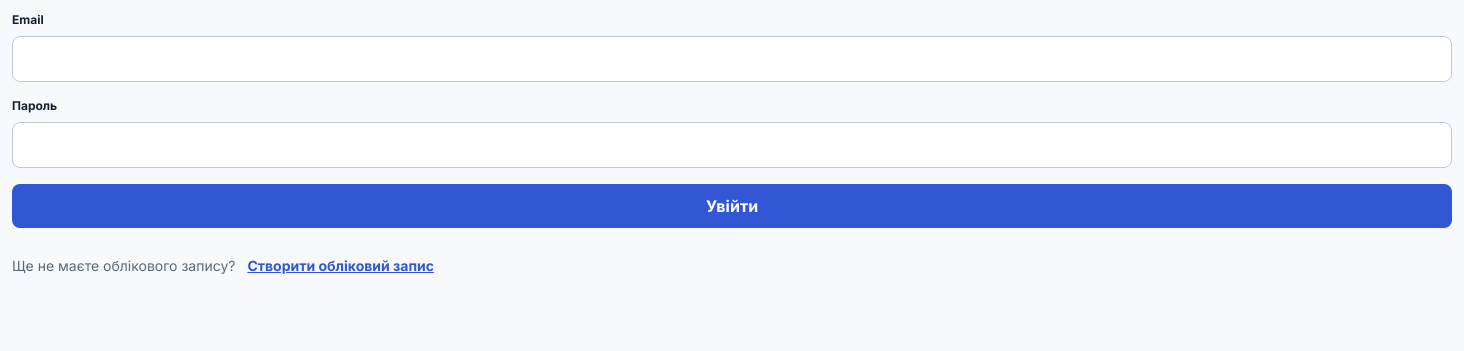
it: LoginForm › shows one generic message and keeps the email for invalid credentials
The width and height of the screenshot is (1464, 351).
Type "olena@example.com" into the field labelled "Email".
click(732, 59); type("olena@example.com")  # box [12,36,1452,82]
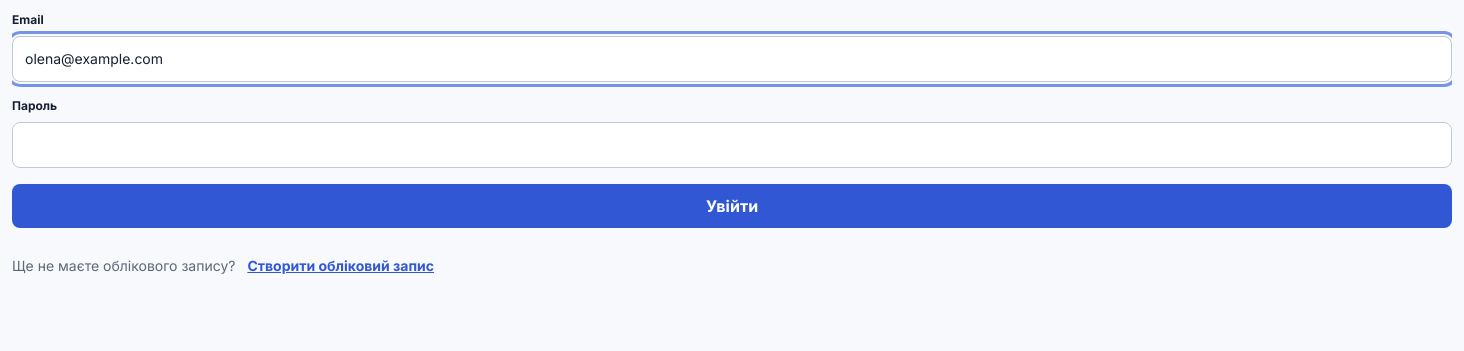
Type "wrong-password" into the password field labelled "Пароль".
click(732, 145); type("wrong-password")  # box [12,122,1452,168]
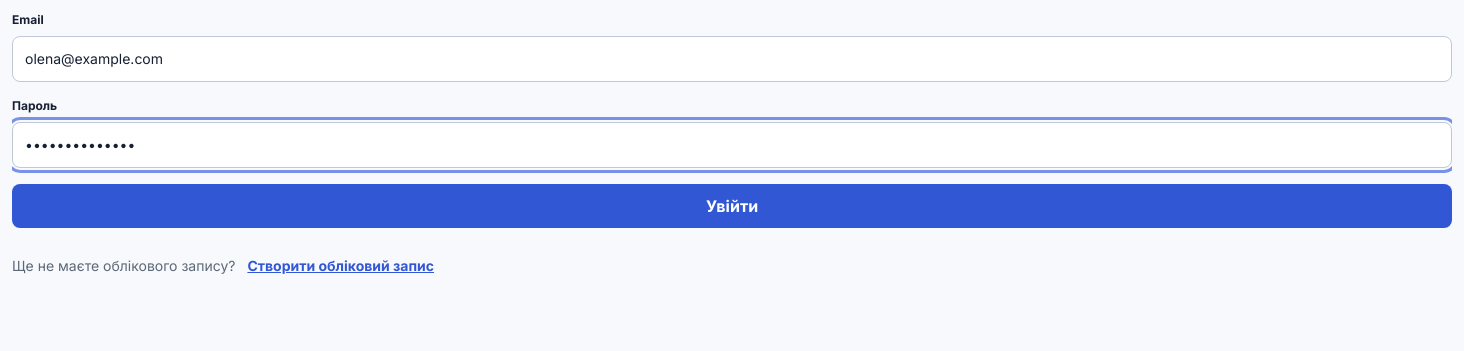
Click the button "Увійти".
click(732, 206)  # box [12,184,1452,228]
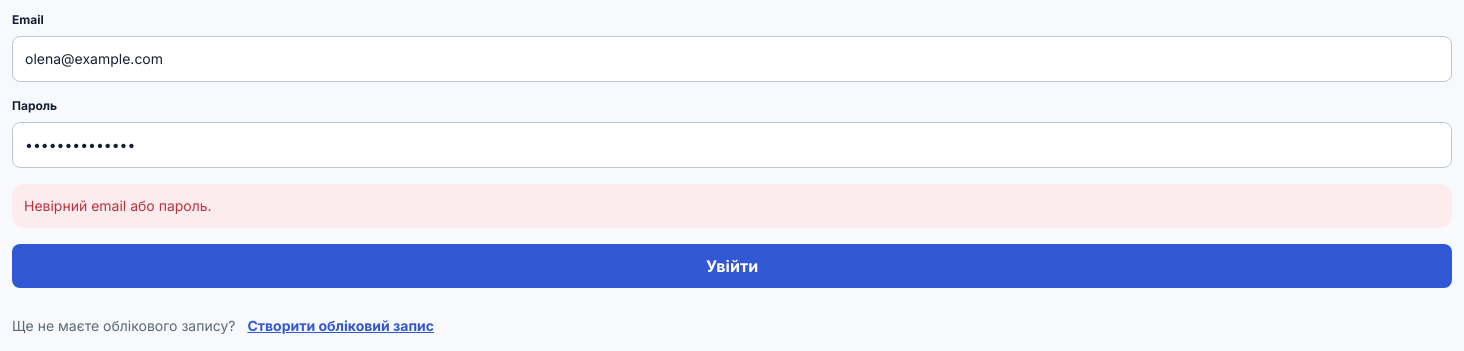
Expected: the message reads "Невірний email або пароль.", [24,197,212,214]
Expected: the text "Невірний email або пароль." is shown once, [12,184,1452,228]
